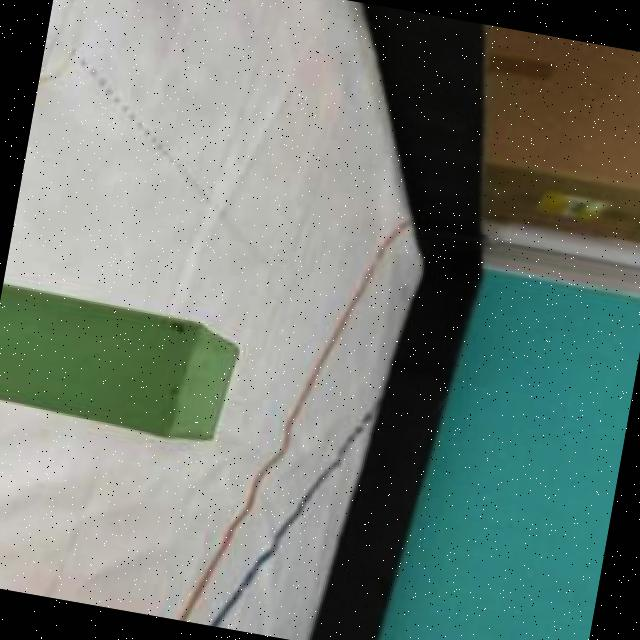greenbox: (0, 281, 247, 450)
